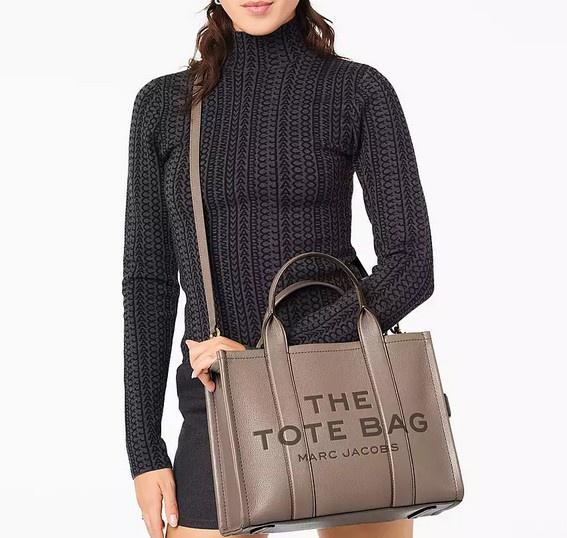MARC-JACOBS: (298, 443, 399, 462)
